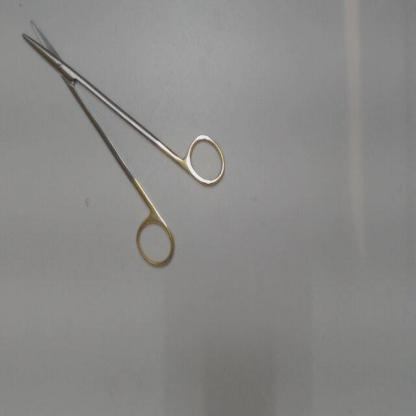7 Metzenbaum Scissors: (14, 10, 230, 270)
